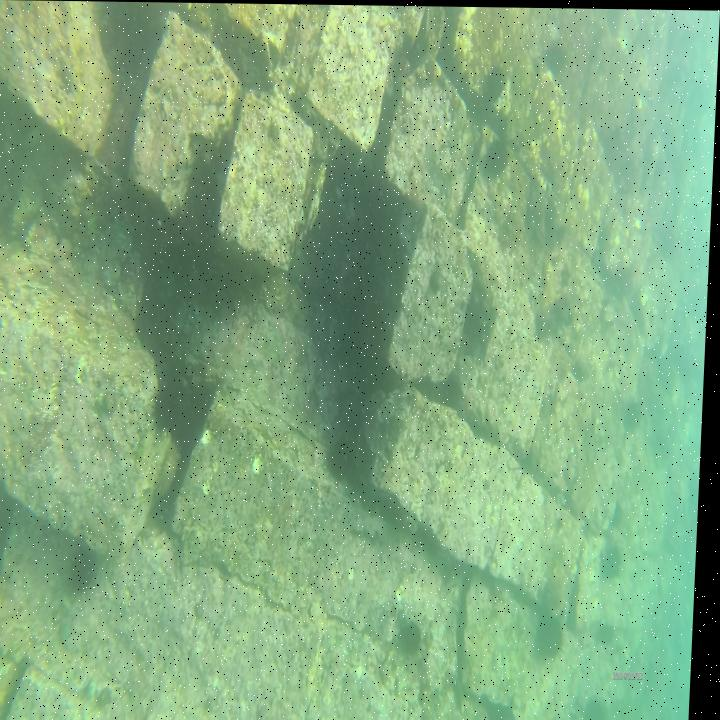echinus: (540, 283, 579, 341), (155, 436, 189, 497), (540, 605, 573, 660), (70, 544, 103, 598), (400, 612, 434, 659), (153, 380, 183, 429), (485, 133, 513, 177), (332, 437, 360, 480), (603, 537, 629, 583), (482, 60, 505, 105), (588, 690, 620, 720), (626, 393, 646, 436), (542, 43, 567, 73), (430, 266, 448, 293)
